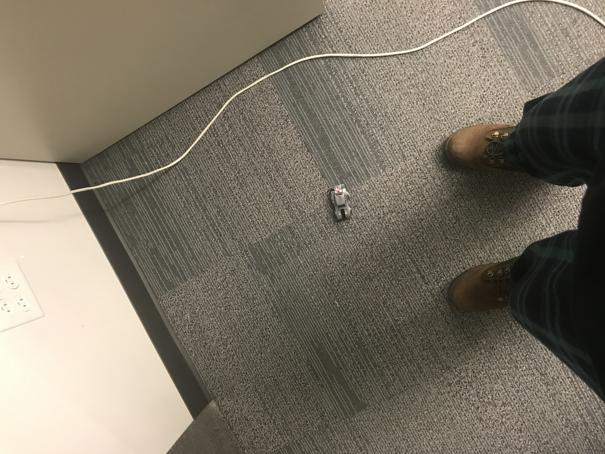Charger: (327, 183, 353, 222)
